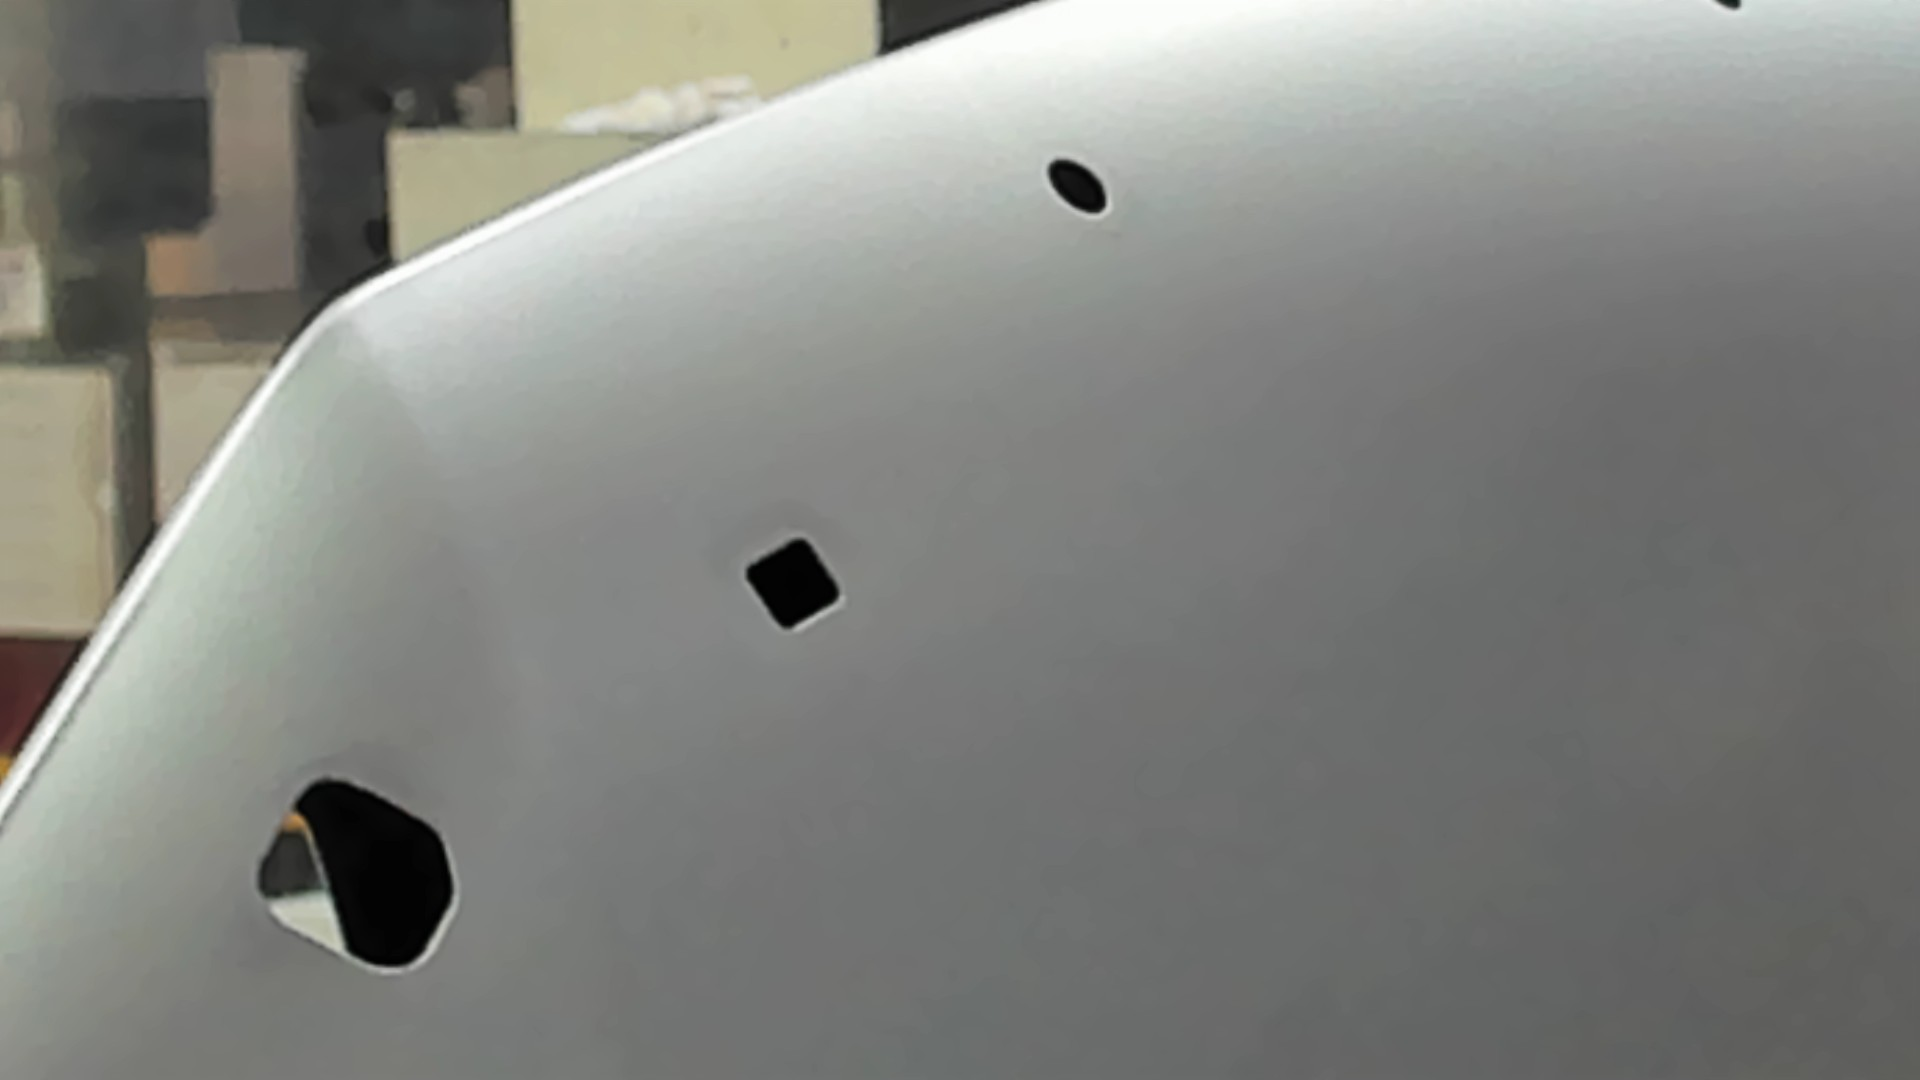chico: (1043, 153, 1114, 219), (1712, 1, 1747, 13)
grande: (252, 774, 462, 981)
mediano: (735, 531, 855, 642)
